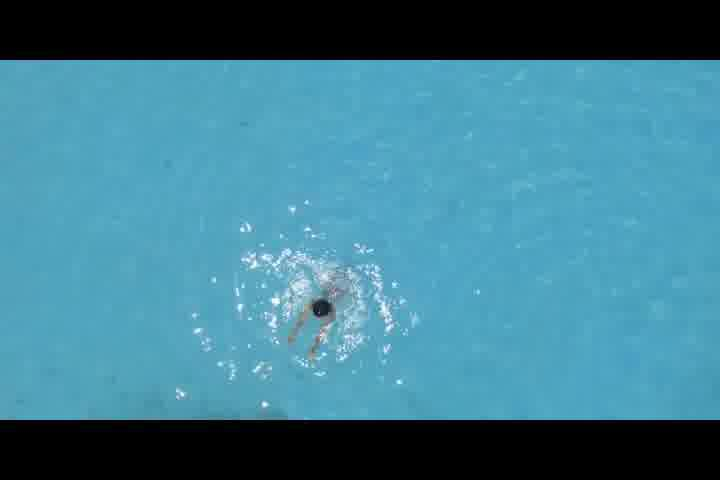human: (286, 282, 352, 356)
